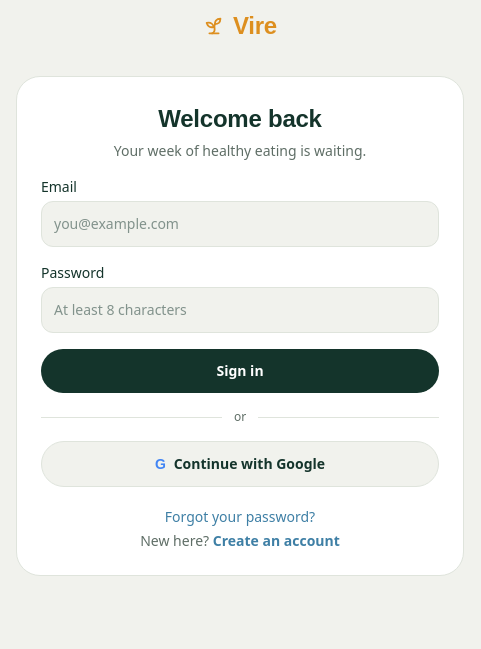
Test: Google sign-in › explains itself rather than failing silently when it cannot work
This screenshot has width=481, height=649.
# The fake cannot perform an OAuth redirect, so it says so.
Click the button "G Continue with Google".
click(240, 464)  # box left=41, top=441, right=439, bottom=487
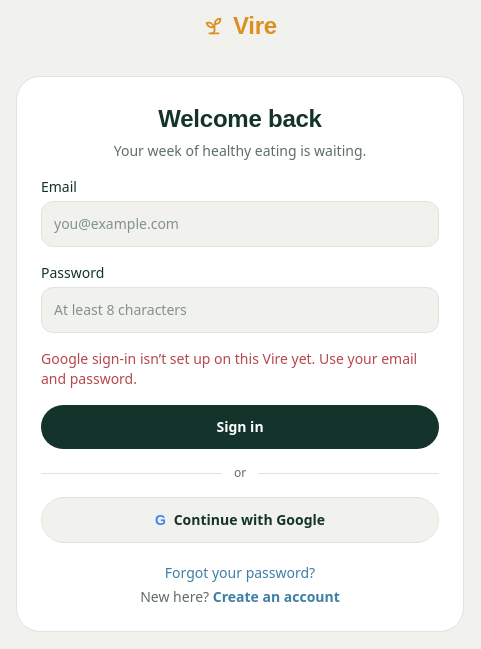
Check: the message reads "Google sign-in isn’t set up on this Vire yet. Use your email and password.", box left=41, top=349, right=417, bottom=388
